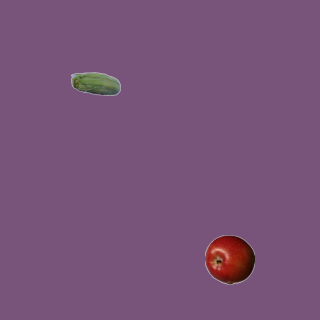Apple Braeburn: (204, 234, 254, 284)
Corn Husk: (70, 60, 120, 110)
